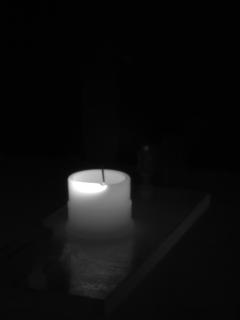tip_wire_left: (86, 160, 105, 185)
tip_wire_right: (103, 158, 117, 185)
